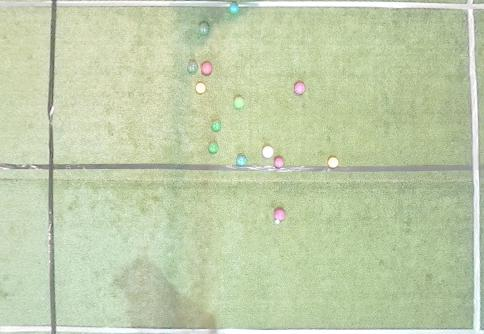blue: (236, 154, 246, 167), (230, 3, 239, 15)
green: (234, 96, 245, 109), (187, 61, 198, 74), (208, 142, 219, 154), (211, 120, 221, 132), (199, 23, 209, 35)
red: (274, 208, 286, 221), (262, 145, 274, 158), (294, 82, 306, 94), (201, 62, 213, 74), (274, 157, 285, 168)
vline: (1, 0, 58, 333), (464, 0, 483, 334)
white: (275, 219, 280, 224)
yellow: (328, 157, 338, 168), (195, 83, 206, 93)
